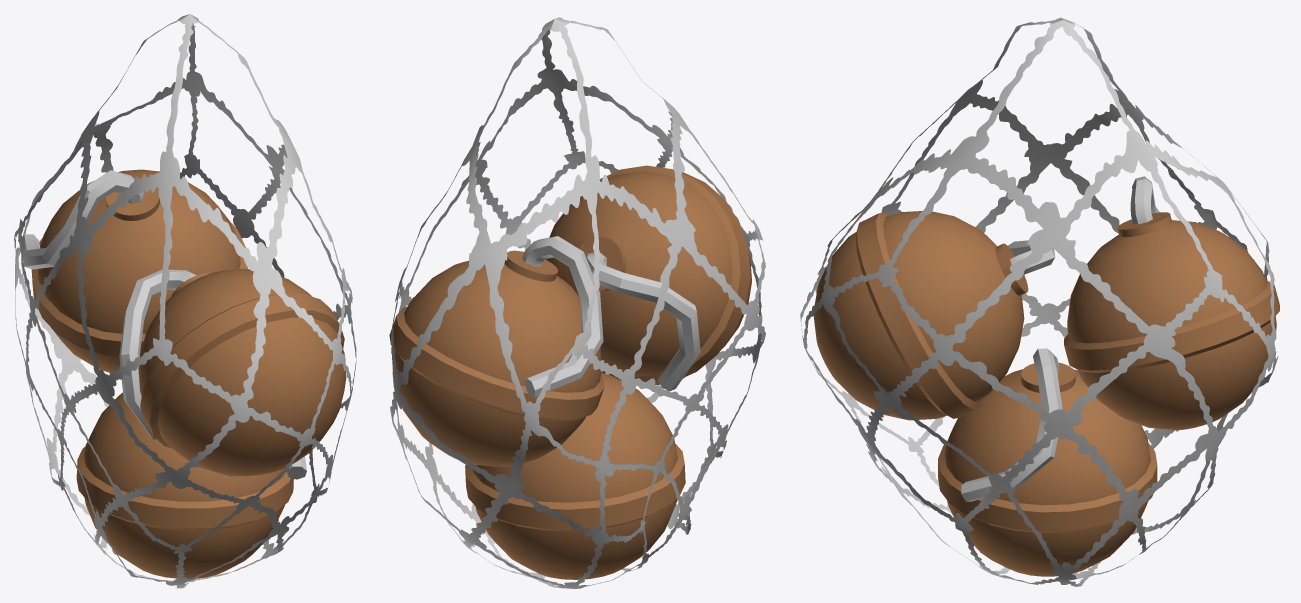
Rendered from BombSack.fbx.
3 renders of one model, left to right at view 1: azimuth 30°, elevation 25°; view 2: azimuth 150°, elevation 25°; view 3: azimuth 270°, elevation 25°, orthographic.
Parts seen in each view (by area): view 1: BombNet; view 2: BombNet; view 3: BombNet.
Boxes of the visible parts, x1,y1,x2,y2 form: BombNet: (14, 14, 356, 588); BombNet: (389, 17, 765, 588); BombNet: (800, 17, 1279, 586).
Size of the model in its own units: 56.57 by 116 by 92.43.
